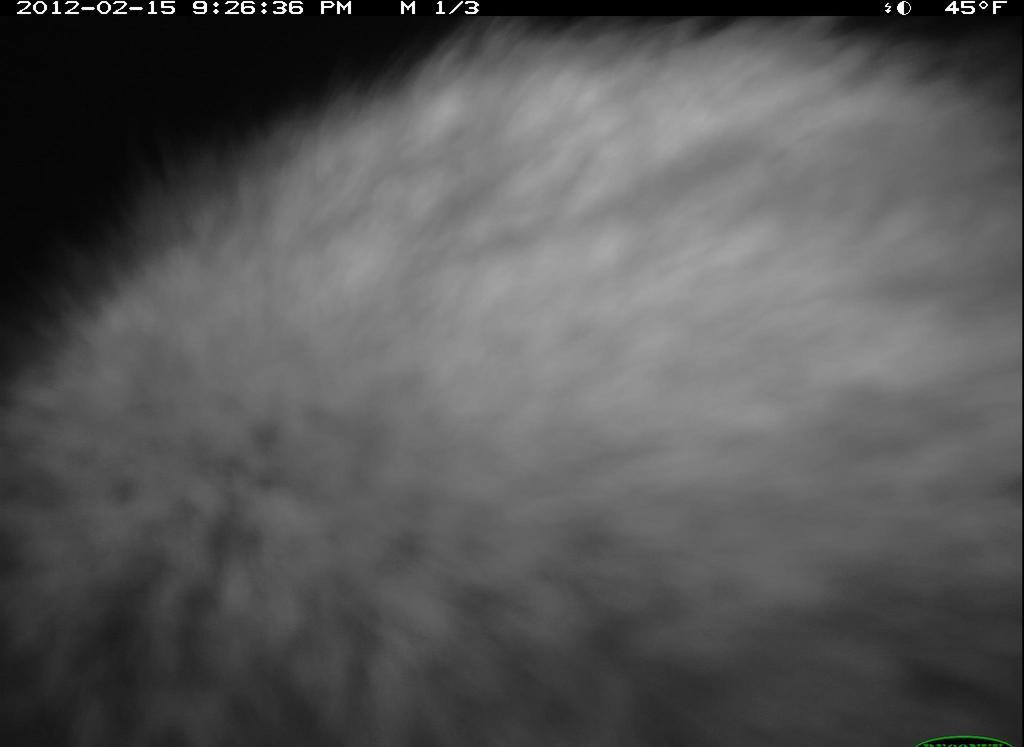raccoon: (4, 18, 1023, 747)
